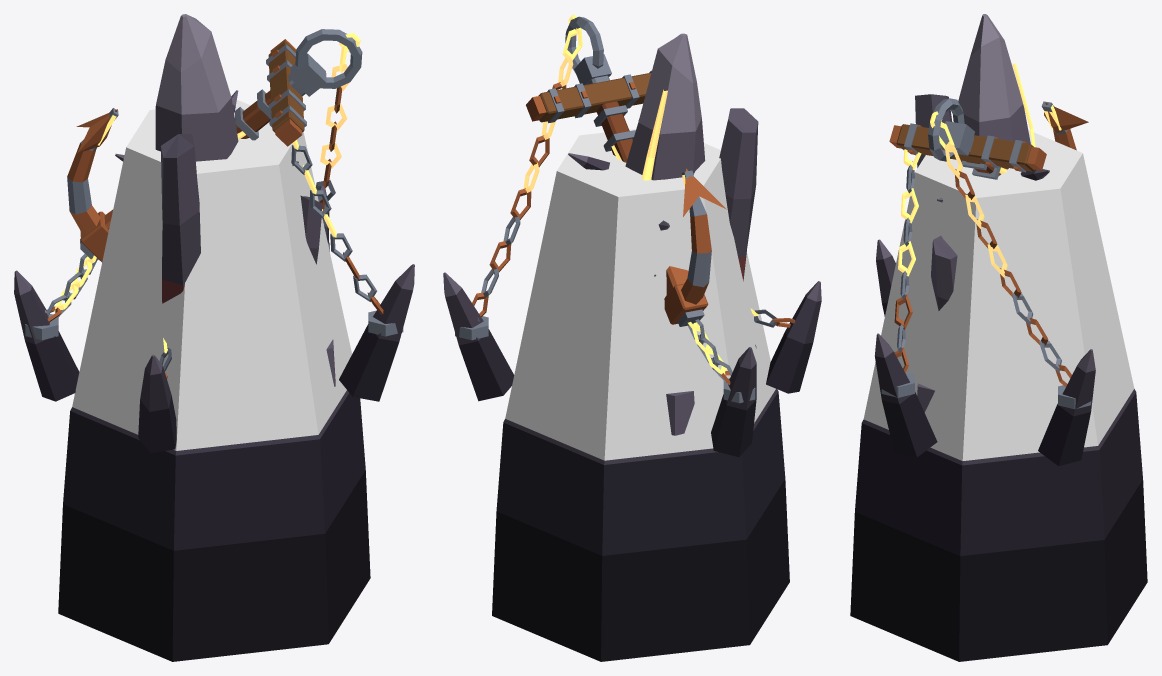
The model's file is volcanic_obsidian_anchor_monolith.glb.
The picture shows the model from 3 angles, left to right: view 1: azimuth 30°, elevation 25°; view 2: azimuth 150°, elevation 25°; view 3: azimuth 270°, elevation 25°; orthographic projection. The views are drawn at different scales.
Visible parts, largest first — view 1: volcanic_obsidian_anchor_monolith, col_volcanchor_base; view 2: volcanic_obsidian_anchor_monolith, col_volcanchor_base; view 3: volcanic_obsidian_anchor_monolith, col_volcanchor_base.
Part boxes in pixels (<box>): volcanic_obsidian_anchor_monolith: <box>14,14,414,661</box>; col_volcanchor_base: <box>72,100,351,450</box>; volcanic_obsidian_anchor_monolith: <box>443,14,821,661</box>; col_volcanchor_base: <box>505,129,775,460</box>; volcanic_obsidian_anchor_monolith: <box>850,14,1147,661</box>; col_volcanchor_base: <box>863,130,1134,460</box>.
Bounding box in the file's own units: 5.96 × 10.64 × 5.06.
